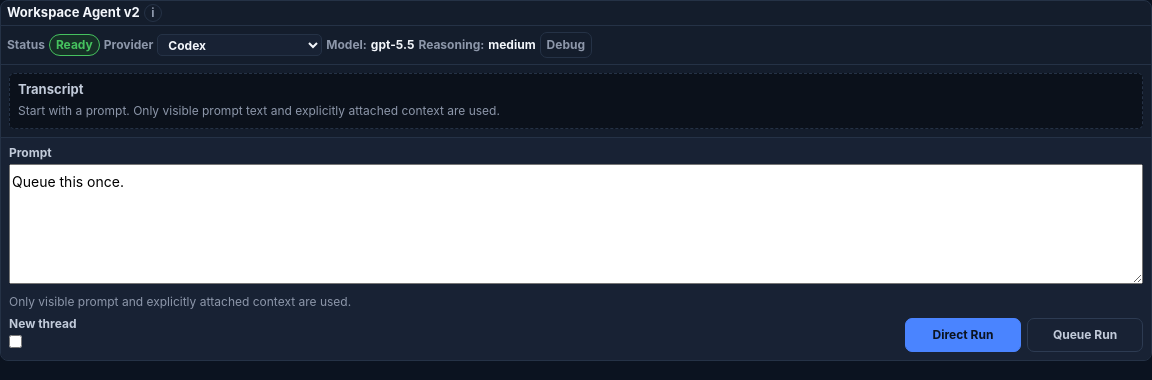
it: WorkspaceAgentV2Widget › blocks duplicate Queue Run clicks while creation is pending
Click the button "Queue Run" at (1085, 335), box x1=1027 y1=318 x2=1143 y2=352
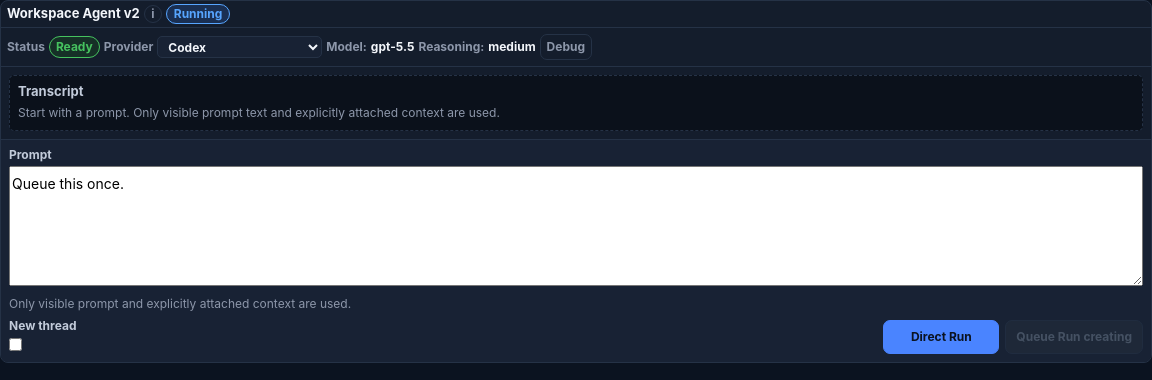
Now the button "Queue Run creating" is disabled, box x1=1005 y1=320 x2=1143 y2=354
